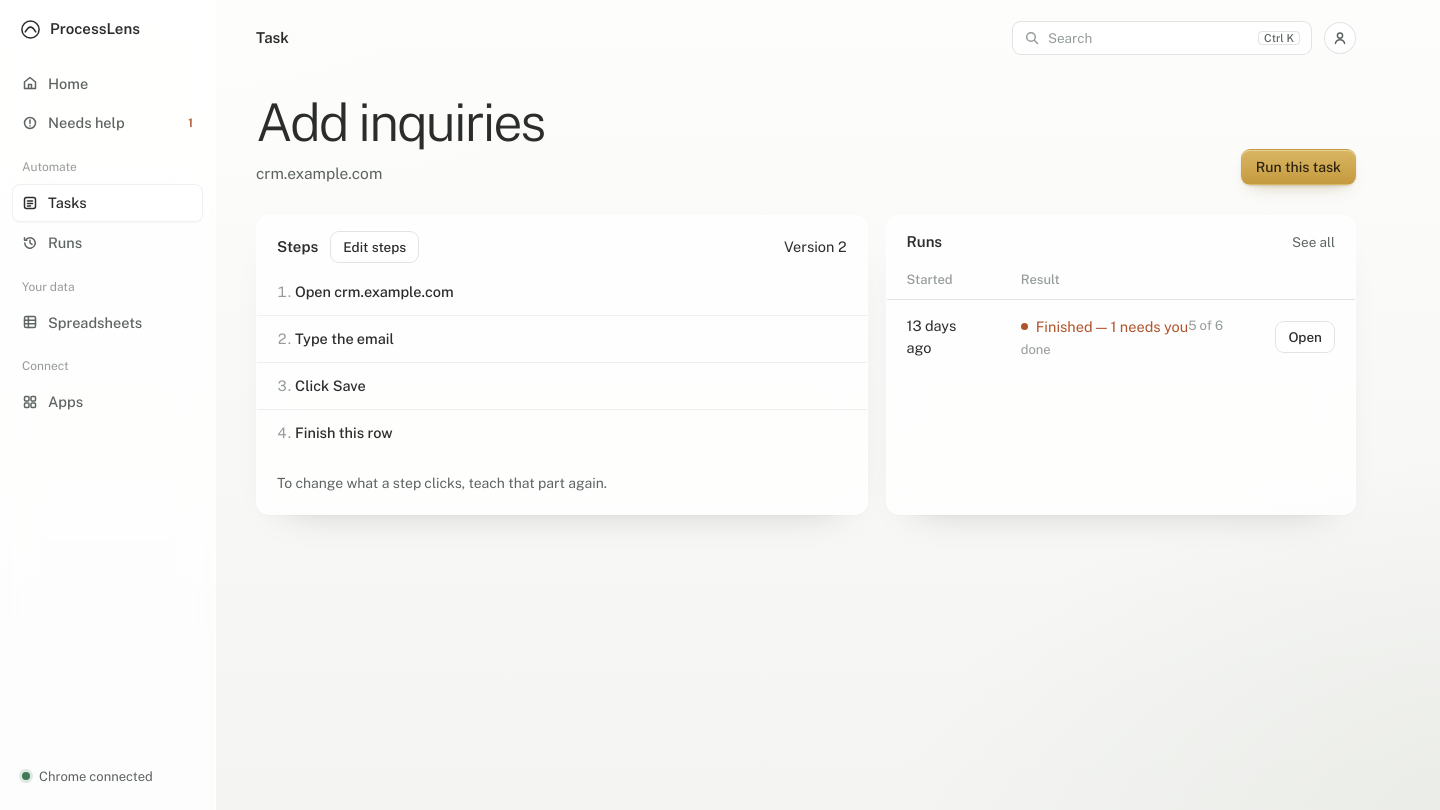
Test: the workflow editor shows only plain words › when the API refuses a save
Click the button "Edit steps" at (375, 247), box [330,231,419,263]
(page scrolled)
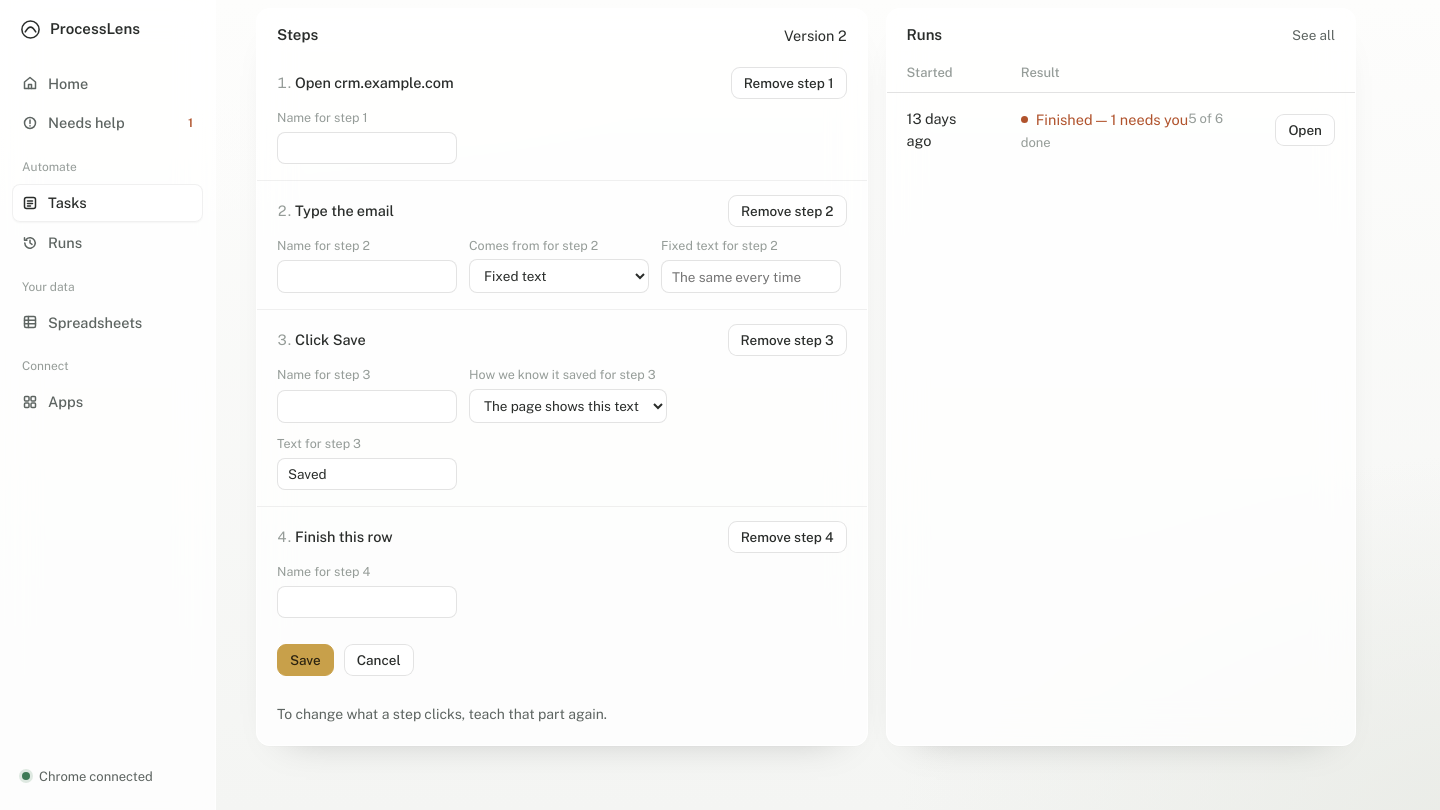
Click the button "Save" at (305, 660), box [277,644,334,676]
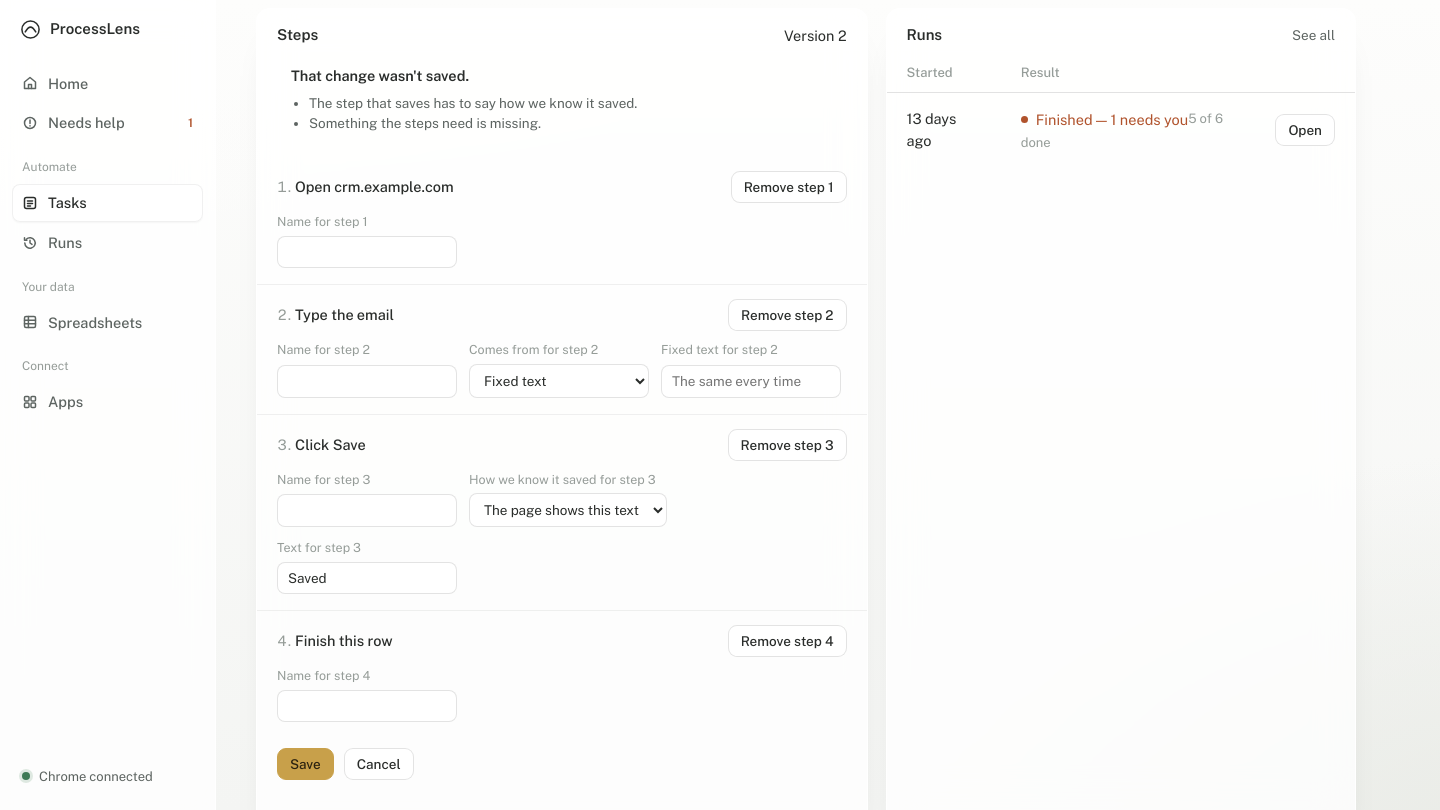
Check: the text "The step that saves has to say how we know it saved." is shown, box [309,95,637,111]
